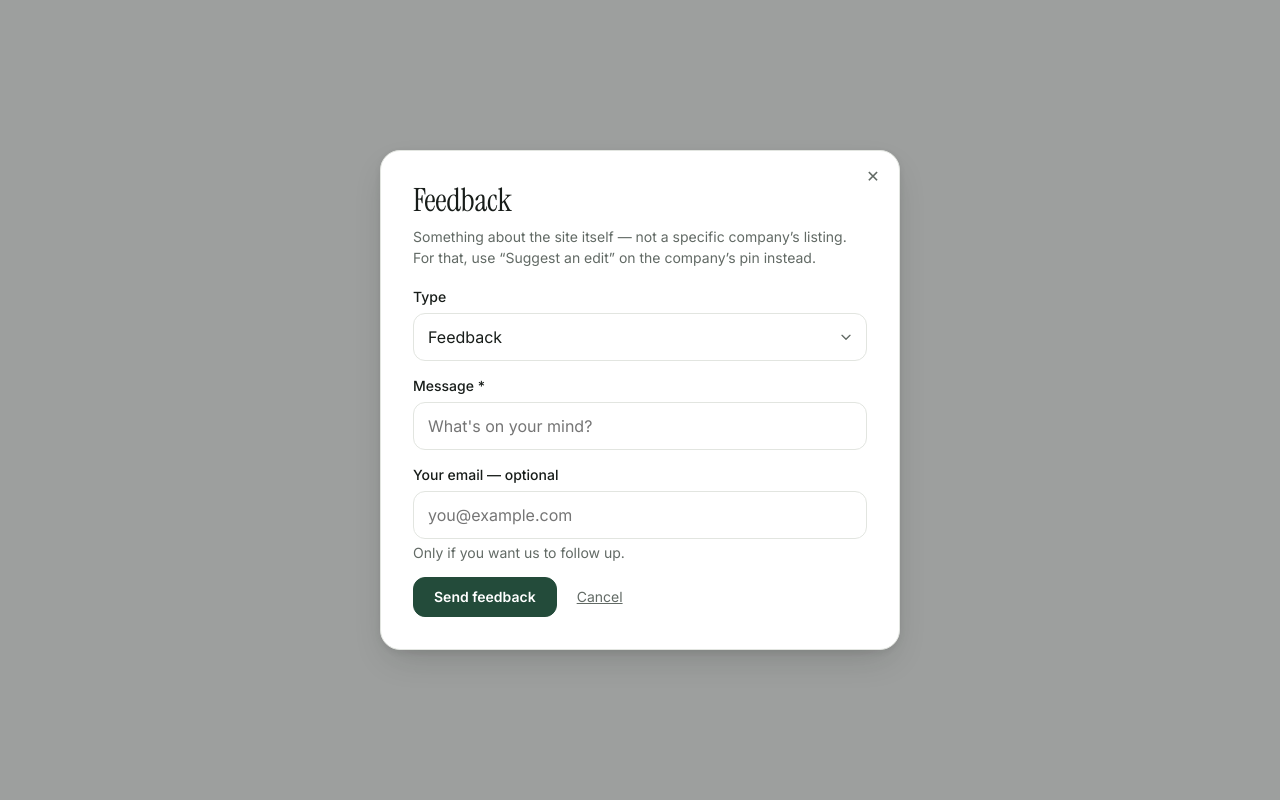
Test case: FeedbackForm › blocks submission and shows an error when the message is empty
Click the button "Send feedback".
click(485, 597)  # box [413, 577, 557, 617]
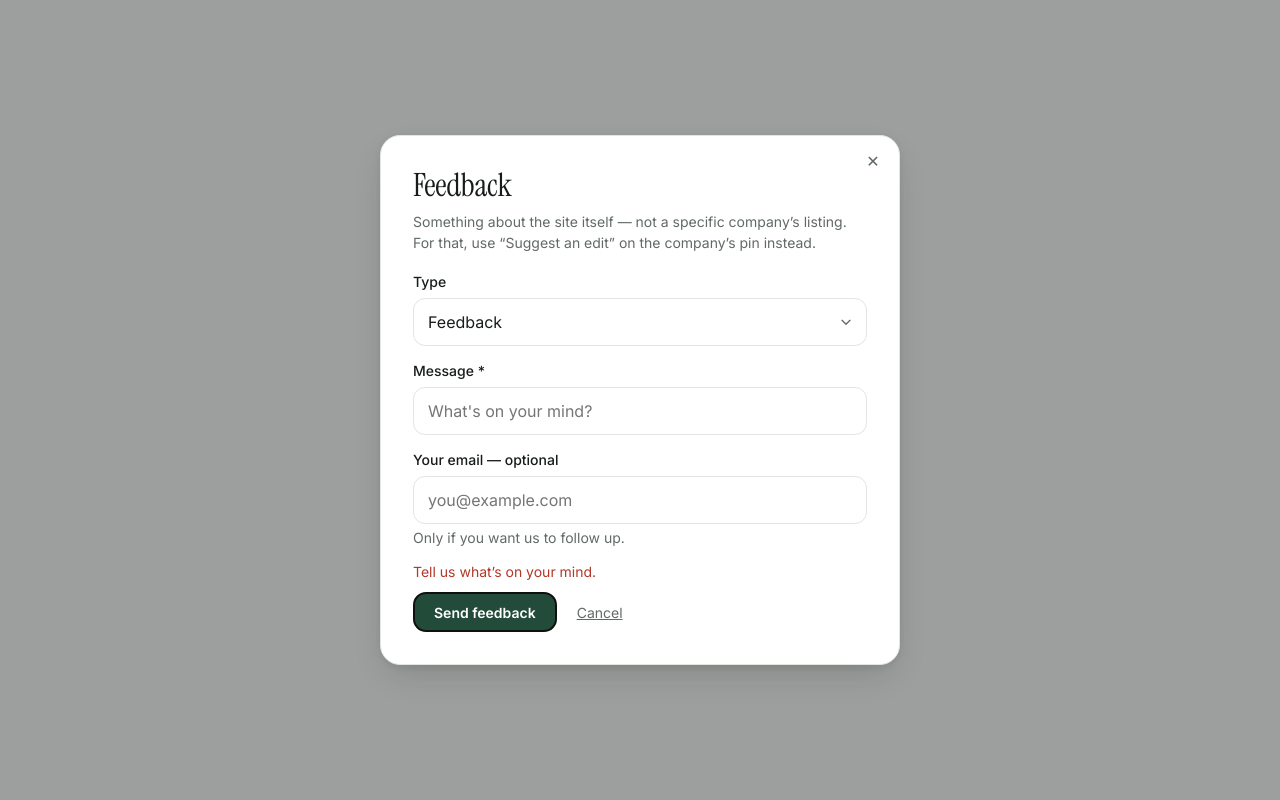
Now the text "Tell us what’s on your mind." is shown, box [413, 563, 596, 580]
